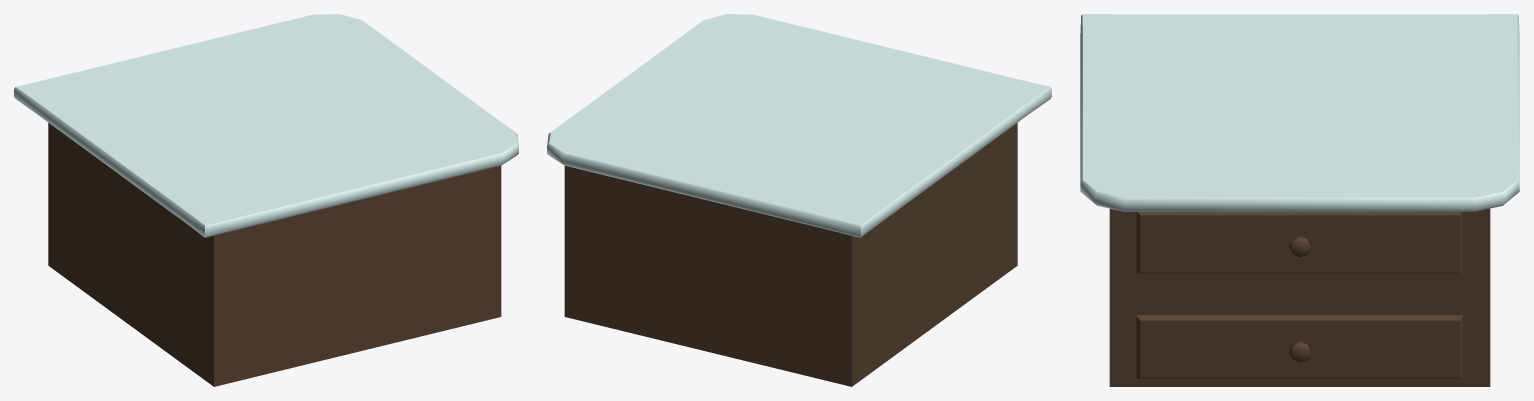
The model's file is wall Counter 1.fbx.
3 renders of one model, left to right at view 1: azimuth 30°, elevation 25°; view 2: azimuth 150°, elevation 25°; view 3: azimuth 270°, elevation 25°, orthographic. The views are drawn at different scales.
Parts seen in each view (by area): view 1: Cube, Cube.001; view 2: Cube, Cube.001; view 3: Cube.001, Cube, Cube.003, Cube.002.
Part boxes in pixels (x1=…): Cube: x1=48, y1=123, x2=501, y2=386; Cube.001: x1=14, y1=14, x2=518, y2=237; Cube: x1=564, y1=123, x2=1017, y2=386; Cube.001: x1=547, y1=14, x2=1051, y2=237; Cube.001: x1=1080, y1=14, x2=1519, y2=211; Cube: x1=1109, y1=208, x2=1490, y2=386; Cube.003: x1=1136, y1=315, x2=1463, y2=378; Cube.002: x1=1136, y1=211, x2=1463, y2=273.
Bounding box in the file's own units: 231 × 116 × 231.
